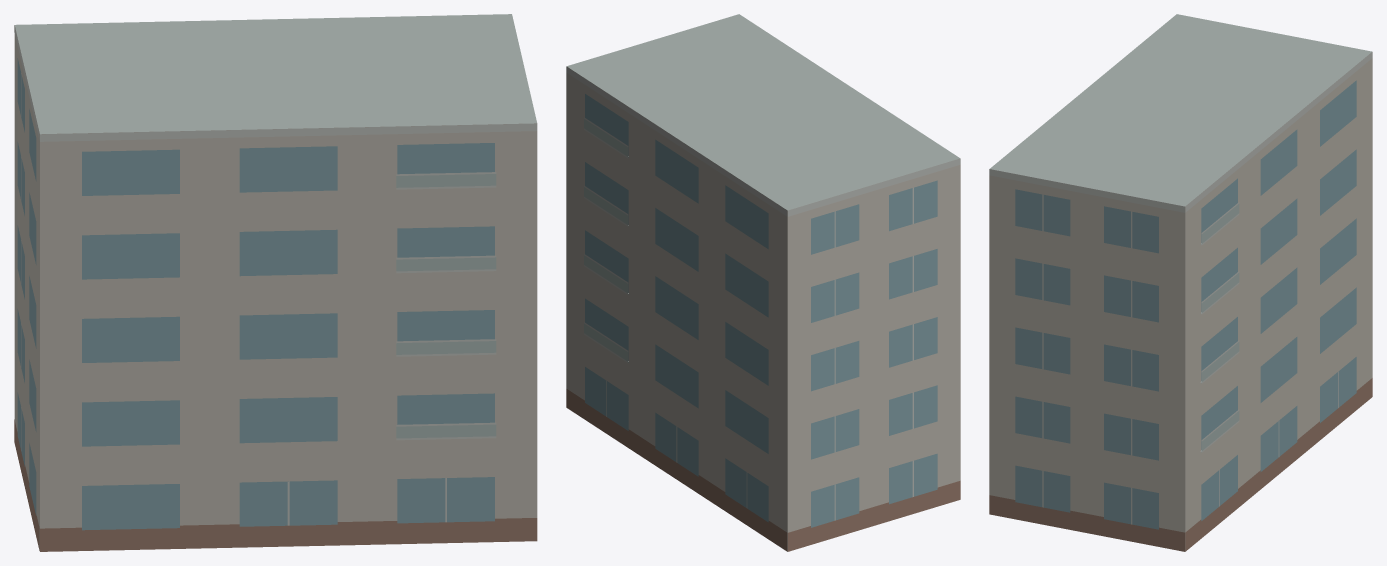
The model's file is survey-upis-32884298.glb.
3 views of the same model, side by side, from view 1: azimuth 30°, elevation 25°; view 2: azimuth 150°, elevation 25°; view 3: azimuth 270°, elevation 25° (orthographic). The views are drawn at different scales.
Parts seen in each view (by area): view 1: survey-upis-32884298.tmp; view 2: survey-upis-32884298.tmp; view 3: survey-upis-32884298.tmp.
Part boxes in pixels (left/top/right/bottom): survey-upis-32884298.tmp: left=14, top=14, right=537, bottom=551; survey-upis-32884298.tmp: left=566, top=14, right=960, bottom=551; survey-upis-32884298.tmp: left=989, top=14, right=1372, bottom=551.
Size of the model in its own units: 15.73 by 13.15 by 13.23.
